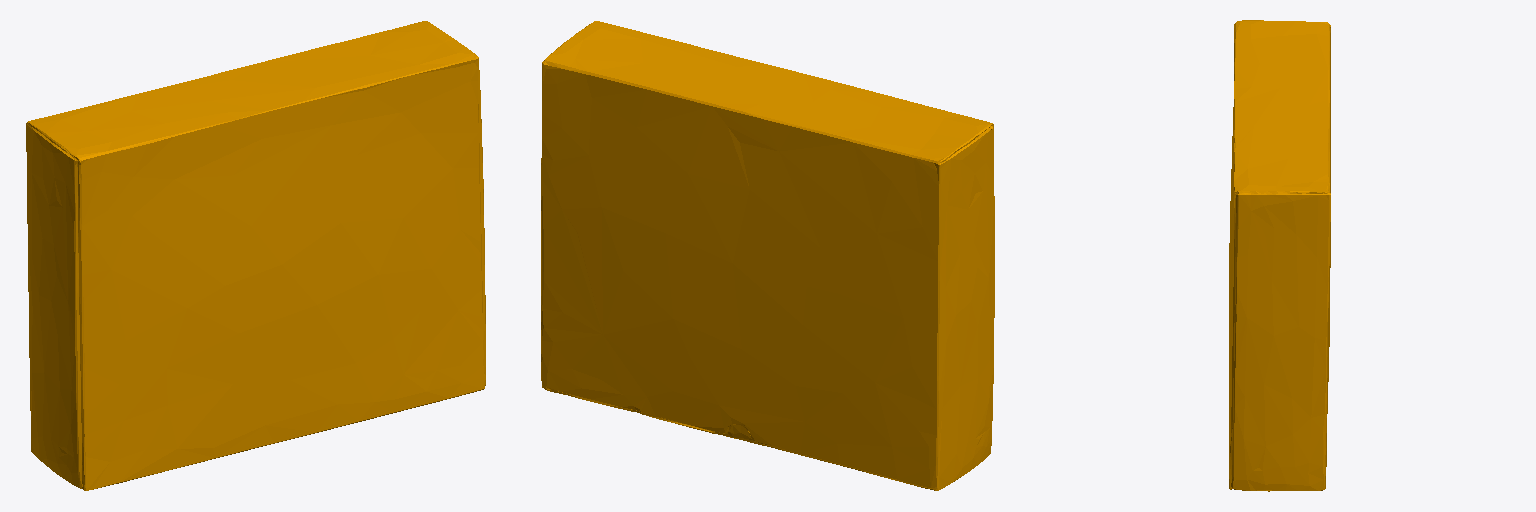
robot.urdf — Asus_Sabertooth_990FX_20_Motherboard_ATX_Socket_AM3:

<robot name="Asus_Sabertooth_990FX_20_Motherboard_ATX_Socket_AM3">
    <link name="base">
        <inertial>
            <origin xyz="9.497760742949732e-18 2.077635162520254e-18 -4.748880371474866e-18" />
            <mass value="0.00761023011513752" />
            <inertia ixx="5.047473898774638e-05" ixy="3.3112144420118844e-07" 
                     ixz="-3.2704520003798653e-07" iyy="0.00012146174654892436" 
                     iyz="-4.6346733055835783e-07" izz="7.930670767410174e-05" />
        </inertial>
        <visual>
            <origin xyz="0 0 0" />
            <geometry>
                <mesh filename="visual_geometry.obj" />
            </geometry>
        </visual>
        <collision>
            <origin xyz="0 0 0" />
            <geometry>
                <mesh filename="collision_geometry.obj" />
            </geometry>
        </collision>
    </link>
</robot>

--- Facts derived from the render (not from the file) ---
Views: 3 orthographic renders of the robot side by side, from view 1: azimuth 30°, elevation 25°; view 2: azimuth 150°, elevation 25°; view 3: azimuth 270°, elevation 25°.
Model Asus_Sabertooth_990FX_20_Motherboard_ATX_Socket_AM3 with 1 links and 0 joints (none), rooted at base, posed every joint at zero.
Links seen in each view (by area): view 1: base; view 2: base; view 3: base.
Link boxes in pixels (x1,y1,x2,y2): base: [26, 21, 485, 490]; base: [541, 21, 994, 490]; base: [1229, 20, 1330, 491].
Bounding box of the posed robot: 0.3502 × 0.0846 × 0.2774 m (x, y, z).
1 mesh visuals loaded from 1 distinct referenced files (1 OBJ).